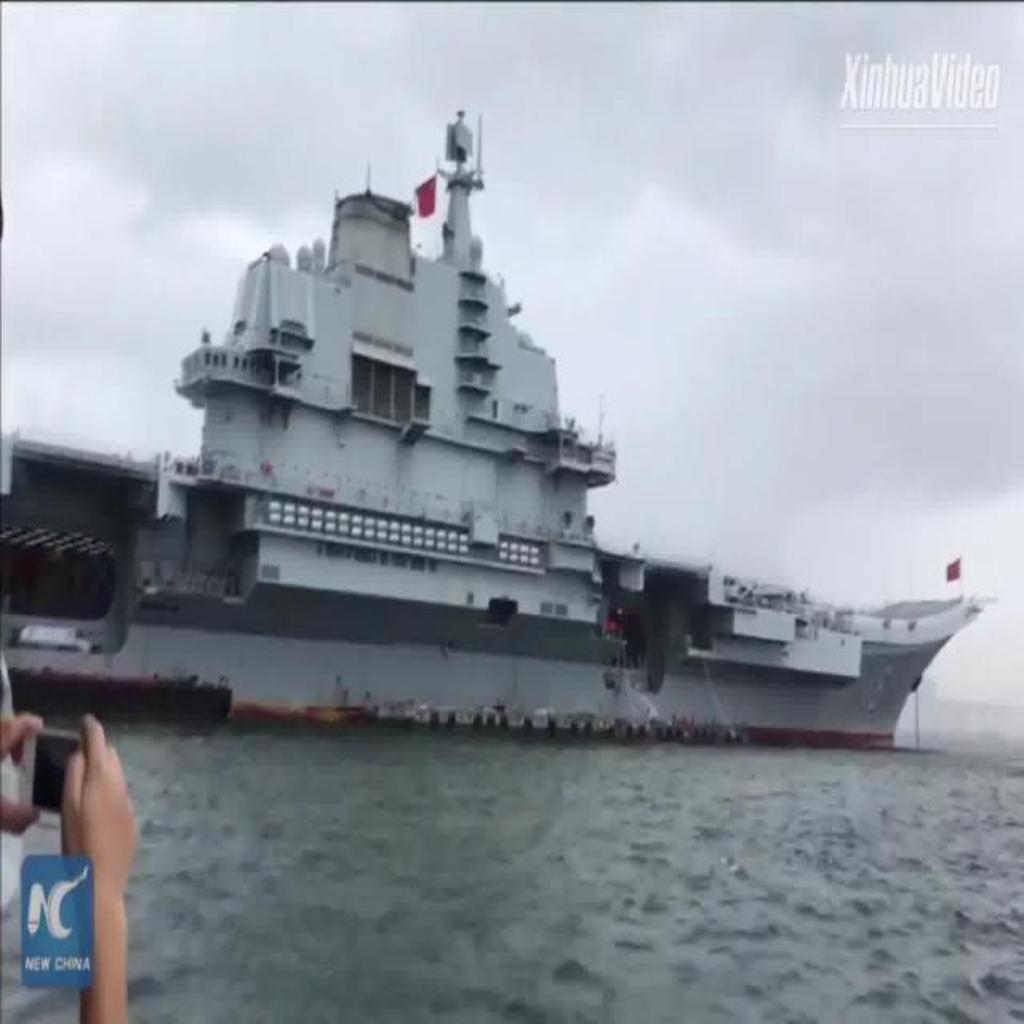Warship: (2, 109, 990, 755)
